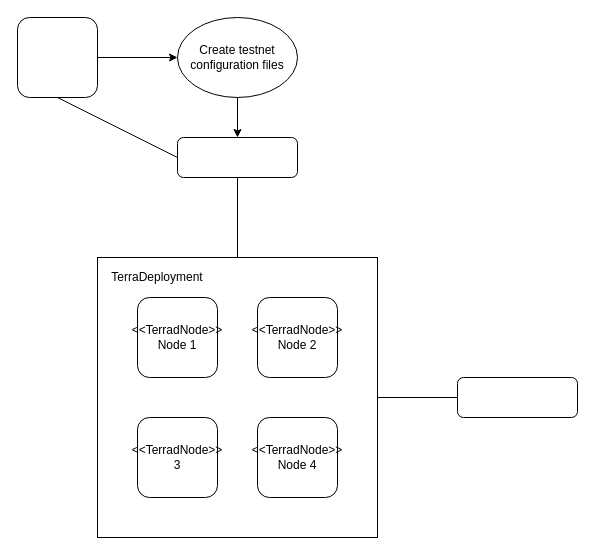
The diagram is 595 pixels wide and 555 high, and some of its shapes have lost their labels. The centre of each missing label's shape, as x and y in pixels:
<<Job>> TerradEnv: [57,57]
Service: [517,397]
VolumeMount: [237,157]
